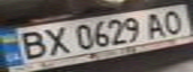0: (72, 20, 96, 51)
2: (106, 16, 130, 46)
6: (90, 18, 112, 48)
9: (121, 14, 145, 43)
A: (139, 10, 172, 38)
B: (9, 28, 51, 61)
O: (157, 7, 193, 35)
X: (36, 24, 72, 57)
